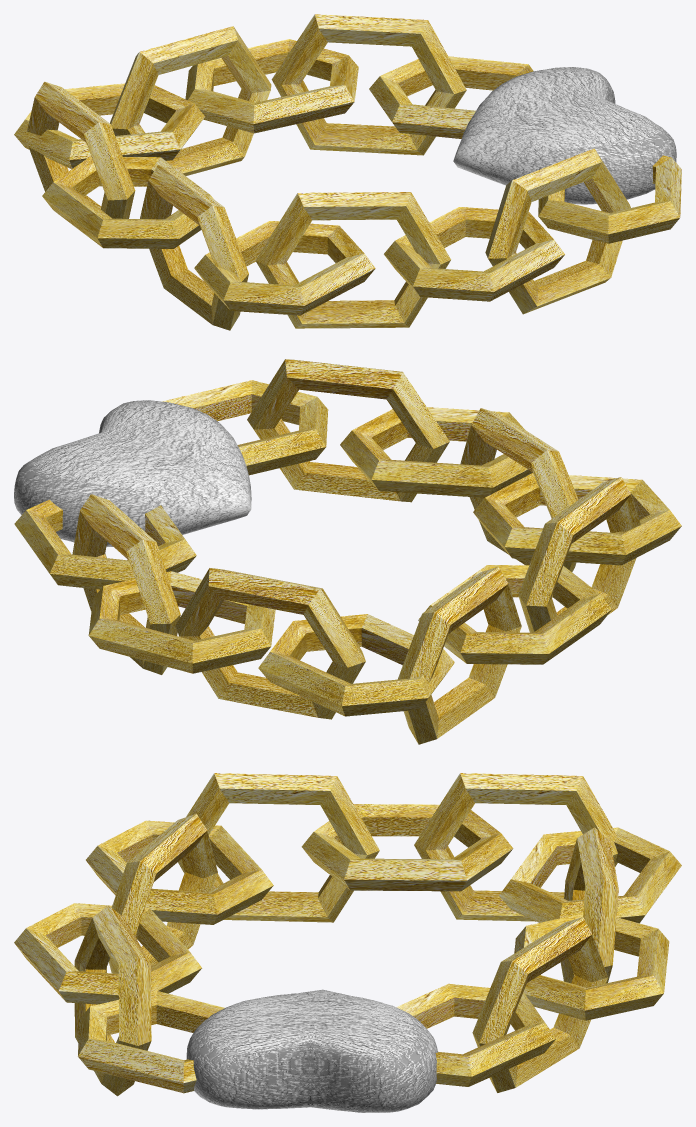
Rendered from pulsera2.glb.
The picture shows the model from 3 angles, top to bottom: view 1: azimuth 30°, elevation 25°; view 2: azimuth 150°, elevation 25°; view 3: azimuth 270°, elevation 25°; orthographic projection. The views are drawn at different scales.
Parts seen in each view (by area): view 1: Cube.001, Toroide.014, Toroide.010, Toroide.009, Toroide.002, Toroide.006, Toroide.005, Toroide.013, Toroide.007, Toroide.008, Toroide.003, Toroide.001 (+2 smaller); view 2: Cube.001, Toroide.009, Toroide.002, Toroide.006, Toroide.001, Toroide.003, Toroide.013, Toroide.005, Toroide.007, Toroide.008, Toroide.010, Toroide.012 (+2 smaller); view 3: Cube.001, Toroide.008, Toroide.007, Toroide.001, Toroide.010, Toroide.005, Toroide.013, Toroide.003, Toroide.006, Toroide.012, Toroide.011, Toroide.009 (+2 smaller).
Boxes of the visible parts, x1=… form: Cube.001: x1=453, y1=67, x2=676, y2=204; Toroide.014: x1=255, y1=192, x2=450, y2=328; Toroide.010: x1=271, y1=14, x2=466, y2=155; Toroide.009: x1=485, y1=148, x2=630, y2=314; Toroide.002: x1=110, y1=26, x2=271, y2=175; Toroide.006: x1=185, y1=39, x2=358, y2=133; Toroide.005: x1=384, y1=207, x2=564, y2=301; Toroide.013: x1=194, y1=221, x2=375, y2=315; Toroide.007: x1=140, y1=165, x2=248, y2=330; Toroide.008: x1=42, y1=156, x2=213, y2=248; Toroide.003: x1=14, y1=83, x2=204, y2=169; Toroide.001: x1=27, y1=81, x2=135, y2=218; Cube.001: x1=14, y1=400, x2=251, y2=546; Toroide.009: x1=247, y1=359, x2=449, y2=502; Toroide.002: x1=175, y1=568, x2=365, y2=719; Toroide.006: x1=88, y1=571, x2=275, y2=673; Toroide.001: x1=397, y1=566, x2=521, y2=744; Toroide.003: x1=258, y1=614, x2=454, y2=716; Toroide.013: x1=473, y1=473, x2=681, y2=565; Toroide.005: x1=340, y1=407, x2=532, y2=497; Toroide.007: x1=518, y1=477, x2=640, y2=632; Toroide.008: x1=418, y1=565, x2=611, y2=664; Toroide.010: x1=72, y1=494, x2=180, y2=674; Toroide.012: x1=14, y1=499, x2=196, y2=589; Cube.001: x1=186, y1=989, x2=437, y2=1112; Toroide.008: x1=301, y1=804, x2=513, y2=891; Toroide.007: x1=178, y1=773, x2=379, y2=922; Toroide.001: x1=414, y1=773, x2=617, y2=921; Toroide.010: x1=472, y1=917, x2=607, y2=1092; Toroide.005: x1=14, y1=903, x2=201, y2=1004; Toroide.013: x1=86, y1=820, x2=273, y2=924; Toroide.003: x1=499, y1=827, x2=681, y2=923; Toroide.006: x1=514, y1=913, x2=669, y2=1020; Toroide.012: x1=396, y1=983, x2=555, y2=1086; Toroide.011: x1=78, y1=991, x2=224, y2=1093; Toroide.009: x1=74, y1=905, x2=151, y2=1096.
Bounding box in the file's own units: 4.63 × 1.08 × 4.67.
Materials: 2 (2 with a texture image).
